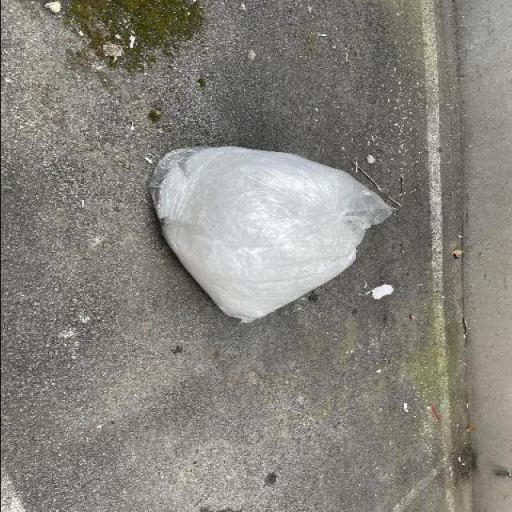plastic-bag: (146, 142, 388, 322)
